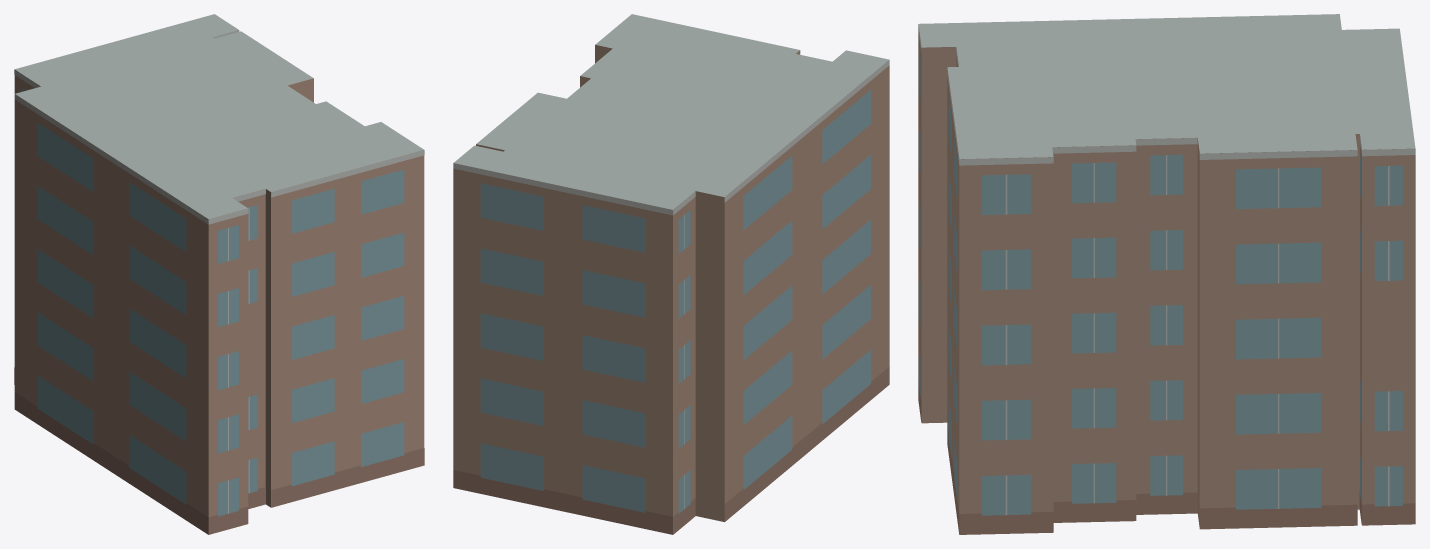
File: survey-upis-32745657.glb
3 renders of one model, left to right at view 1: azimuth 30°, elevation 25°; view 2: azimuth 150°, elevation 25°; view 3: azimuth 270°, elevation 25°, orthographic. The views are drawn at different scales.
Visible parts, largest first — view 1: survey-upis-32745657.tmp; view 2: survey-upis-32745657.tmp; view 3: survey-upis-32745657.tmp.
Boxes of the visible parts, <box> form: survey-upis-32745657.tmp: <box>14,14,424,534</box>; survey-upis-32745657.tmp: <box>453,14,889,534</box>; survey-upis-32745657.tmp: <box>918,14,1415,534</box>.
Bounding box in the file's own units: 11.78 × 14.2 × 17.04.
